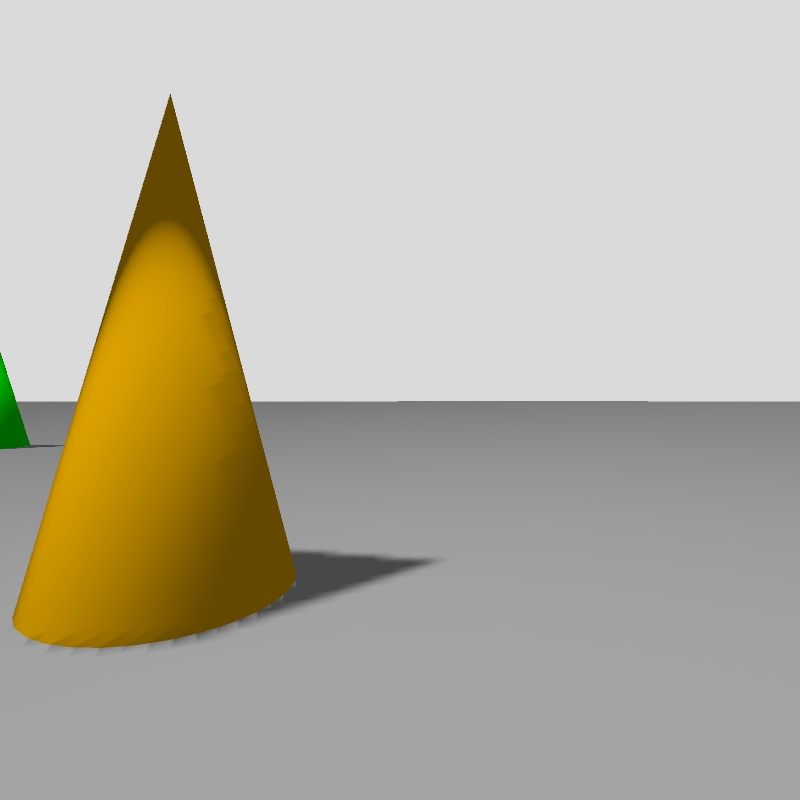Green_cone: (0, 354, 28, 448)
Orange_cone: (13, 97, 294, 647)
